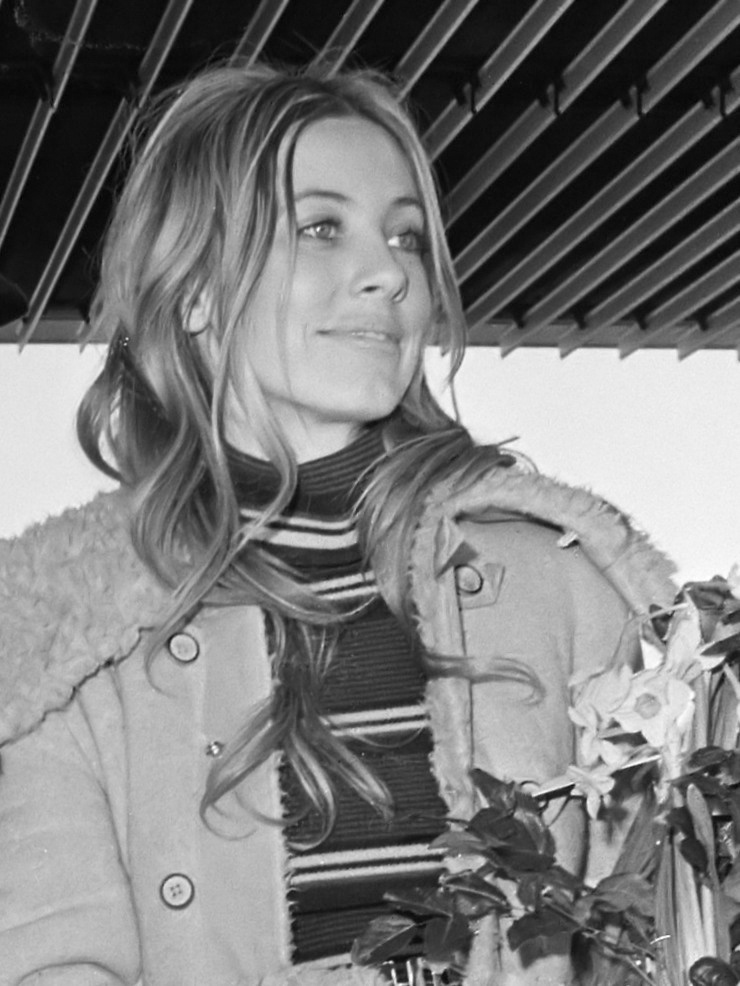bad: (241, 167, 464, 390)
